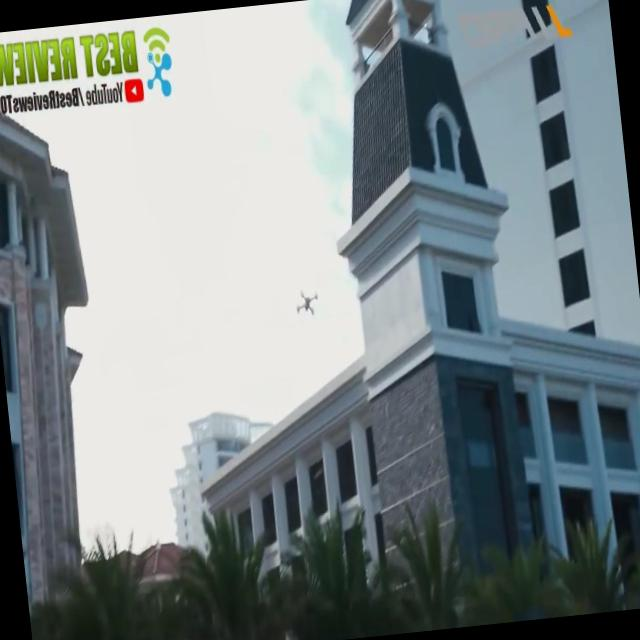drone: (292, 283, 322, 321)
